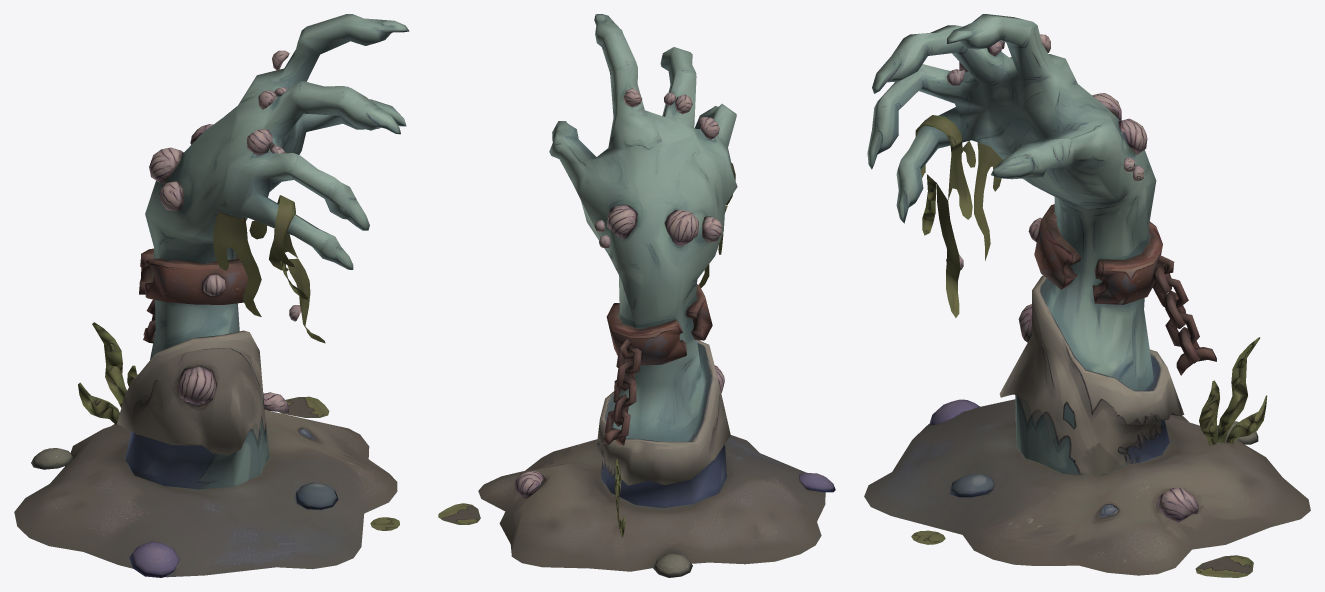
Rendered from drownedhand_tripo.glb.
The picture shows the model from 3 angles, left to right: view 1: azimuth 30°, elevation 25°; view 2: azimuth 150°, elevation 25°; view 3: azimuth 270°, elevation 25°; orthographic projection. The views are drawn at different scales.
Parts seen in each view (by area): view 1: tripo_node_744be4f8-e2a9-45ed-9b81-74835baf473c; view 2: tripo_node_744be4f8-e2a9-45ed-9b81-74835baf473c; view 3: tripo_node_744be4f8-e2a9-45ed-9b81-74835baf473c.
Part boxes in pixels (<box>): tripo_node_744be4f8-e2a9-45ed-9b81-74835baf473c: <box>14,14,409,577</box>; tripo_node_744be4f8-e2a9-45ed-9b81-74835baf473c: <box>438,14,835,577</box>; tripo_node_744be4f8-e2a9-45ed-9b81-74835baf473c: <box>864,14,1310,577</box>.
Bounding box in the file's own units: 0.7715 × 0.998 × 0.7793.
1 material, 1 textured.
